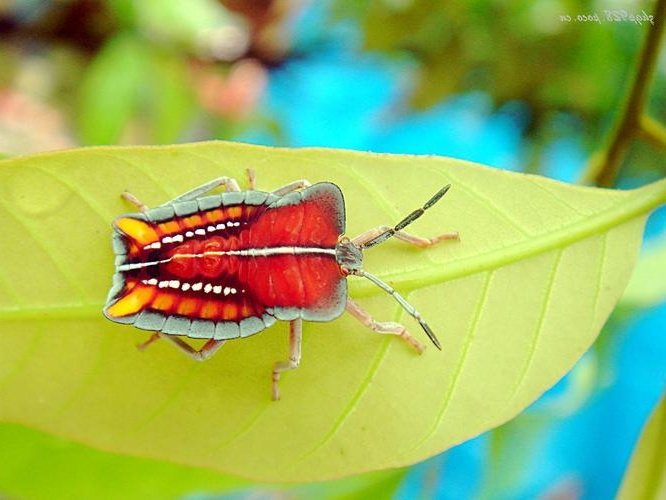Stink_Bug: (115, 147, 436, 355)
